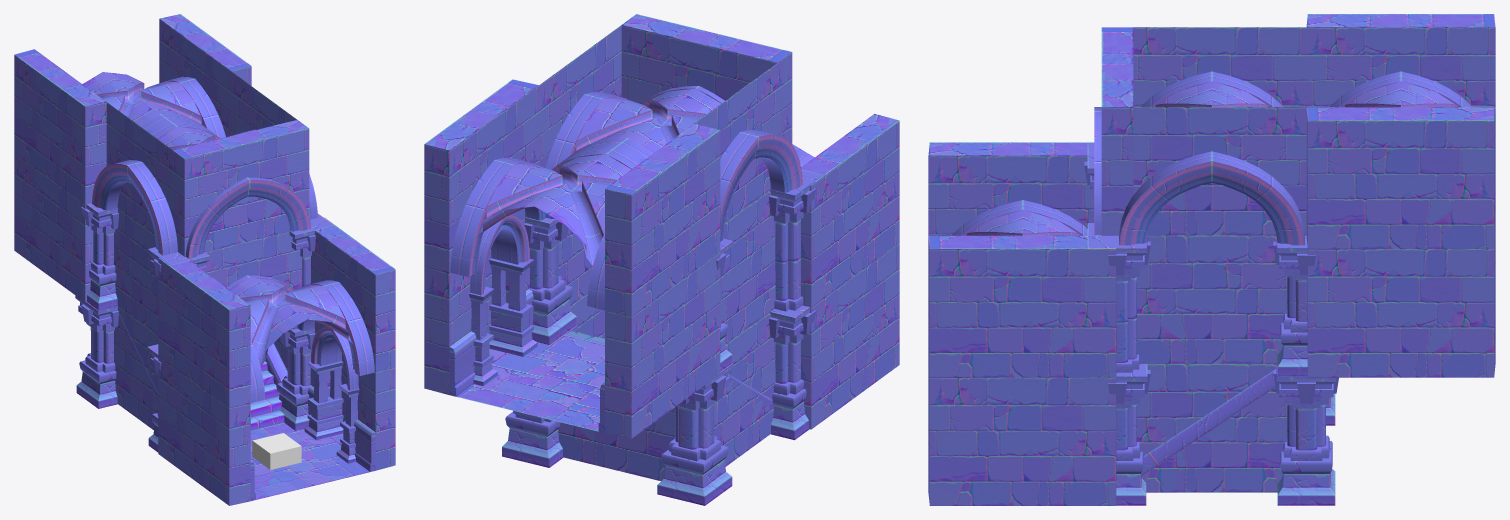
Rendered from FP_Room_03.fbx.
3 views of the same model, side by side, from view 1: azimuth 30°, elevation 25°; view 2: azimuth 150°, elevation 25°; view 3: azimuth 270°, elevation 25° (orthographic). The views are drawn at different scales.
Visible parts, largest first — view 1: Wall_Niche_02__1_, Wall_Niche_02__3_, Arch_05__5_, Wall_Niche_02, Wall_05, Wall_Niche_02__2_, Ceiling_04__7_, Floor_01__7_, Stair_01, Ceiling_04__9_, Arch_03__15_, Column_11__12_ (+14 smaller); view 2: Wall_Niche_02__3_, Wall_Niche_02__1_, Wall_Niche_02__2_, Wall_05, Arch_05__5_, Floor_01__8_, Stair_01, Wall_05__1_, Ceiling_04__9_, Column_11__12_, Ceiling_04__8_, Column_11__11_ (+9 smaller); view 3: Wall_Niche_02__2_, Wall_Niche_02, Wall_05__1_, Wall_Niche_02__3_, Wall_Niche_02__1_, Wall_05, Arch_03__17_, Column_11__13_, Arch_05__5_, Column_11__9_, Column_11__11_, Column_12__9_ (+9 smaller).
Part boxes in pixels (x1,y1,x2,y2): Wall_Niche_02__1_: (158, 258, 255, 505); Wall_Niche_02__3_: (14, 49, 106, 302); Arch_05__5_: (173, 120, 309, 329); Wall_Niche_02: (304, 217, 395, 471); Wall_05: (106, 102, 178, 400); Wall_Niche_02__2_: (159, 14, 251, 136); Ceiling_04__7_: (229, 277, 353, 366); Floor_01__7_: (250, 422, 369, 499); Stair_01: (114, 320, 284, 430); Ceiling_04__9_: (82, 72, 201, 125); Arch_03__15_: (92, 160, 177, 255); Column_11__12_: (75, 295, 118, 408); Wall_Niche_02__3_: (598, 123, 720, 438); Wall_Niche_02__1_: (801, 114, 899, 429); Wall_Niche_02__2_: (424, 79, 539, 396); Wall_05: (695, 58, 784, 413); Arch_05__5_: (621, 14, 792, 144); Floor_01__8_: (456, 335, 604, 431); Stair_01: (558, 330, 773, 480); Wall_05__1_: (539, 25, 621, 338); Ceiling_04__9_: (476, 154, 631, 265); Column_11__12_: (657, 362, 733, 505); Ceiling_04__8_: (576, 88, 721, 152); Column_11__11_: (524, 217, 576, 344); Wall_Niche_02__2_: (1306, 107, 1495, 377); Wall_Niche_02: (928, 235, 1116, 505); Wall_05__1_: (1133, 107, 1306, 492); Wall_Niche_02__3_: (1306, 14, 1495, 107); Wall_Niche_02__1_: (928, 142, 1094, 235); Wall_05: (1133, 27, 1306, 106); Arch_03__17_: (1119, 151, 1304, 245); Column_11__13_: (1273, 364, 1338, 505); Arch_05__5_: (1101, 27, 1133, 235); Column_11__9_: (1108, 364, 1150, 505); Column_11__11_: (1273, 235, 1315, 376); Column_12__9_: (1087, 223, 1150, 372).
Size of what is drawn, in the model's own units: 540 by 950 by 1200.
